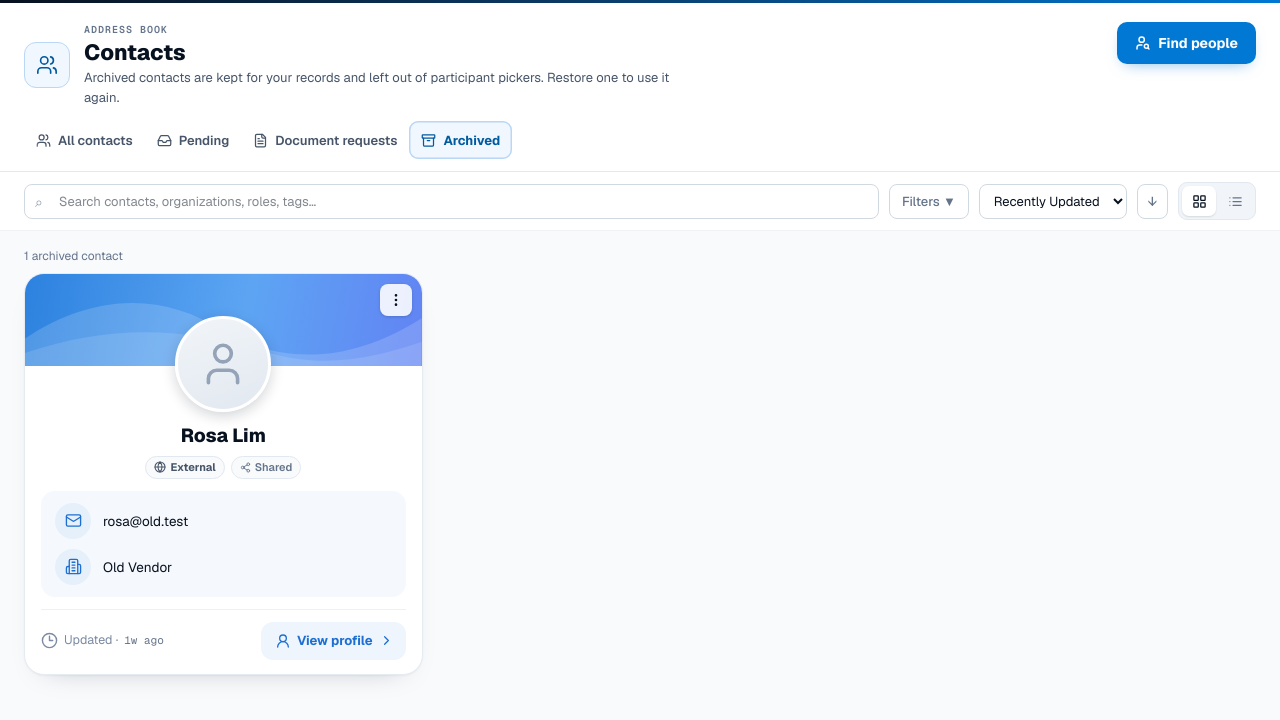
Contacts → Archived › restores through the existing restore action, then shows the empty state
Expected: the text "Rosa Lim" is shown, [181,424,266,448]
Click the button named "Actions for Rosa Lim" at (396, 300), box [380,284,412,316]
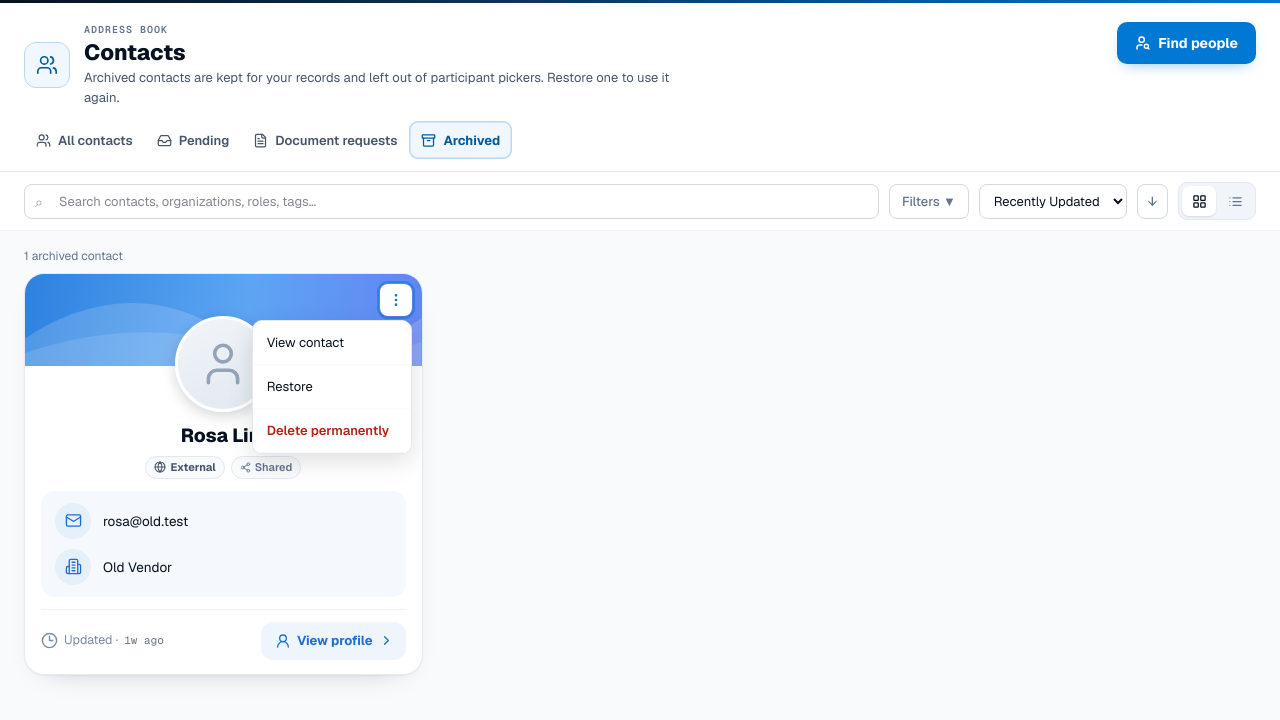
Click the menu item "Restore" at (332, 387), box [253,365,411,409]
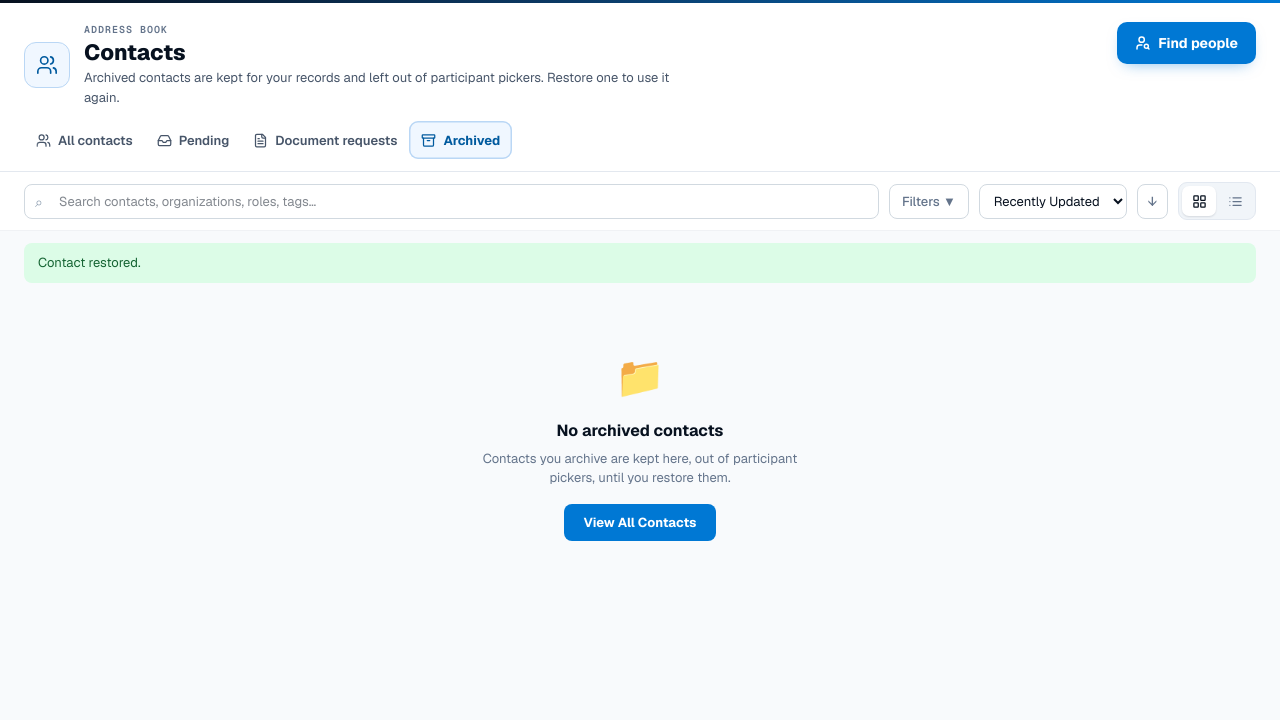
Result: the text "Contact restored." is shown at [24,243,1256,283]
Result: the heading "No archived contacts" is shown at [556,420,723,441]
Result: the link "Rosa Lim" is gone
